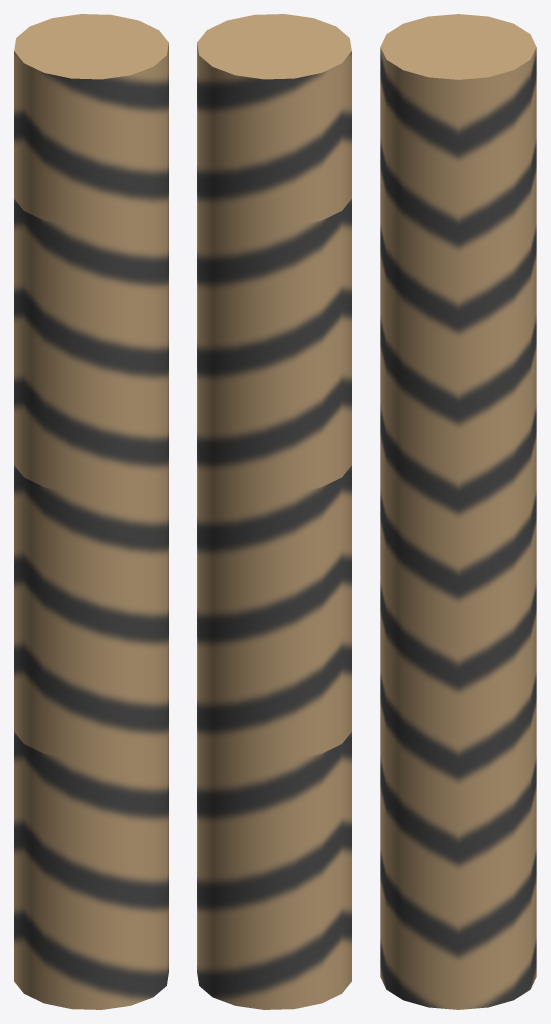
Rendered from shengsuo.FBX.
3 views of the same model, side by side, from view 1: azimuth 30°, elevation 25°; view 2: azimuth 150°, elevation 25°; view 3: azimuth 270°, elevation 25° (orthographic).
Visible parts, largest first — view 1: 绳索; view 2: 绳索; view 3: 绳索.
Boxes of the visible parts, x1,y1,x2,y2 form: 绳索: (14, 14, 168, 1009); 绳索: (197, 14, 351, 1009); 绳索: (380, 14, 536, 1009).
Size of the model in its own units: 12.72 by 83.75 by 12.74.
